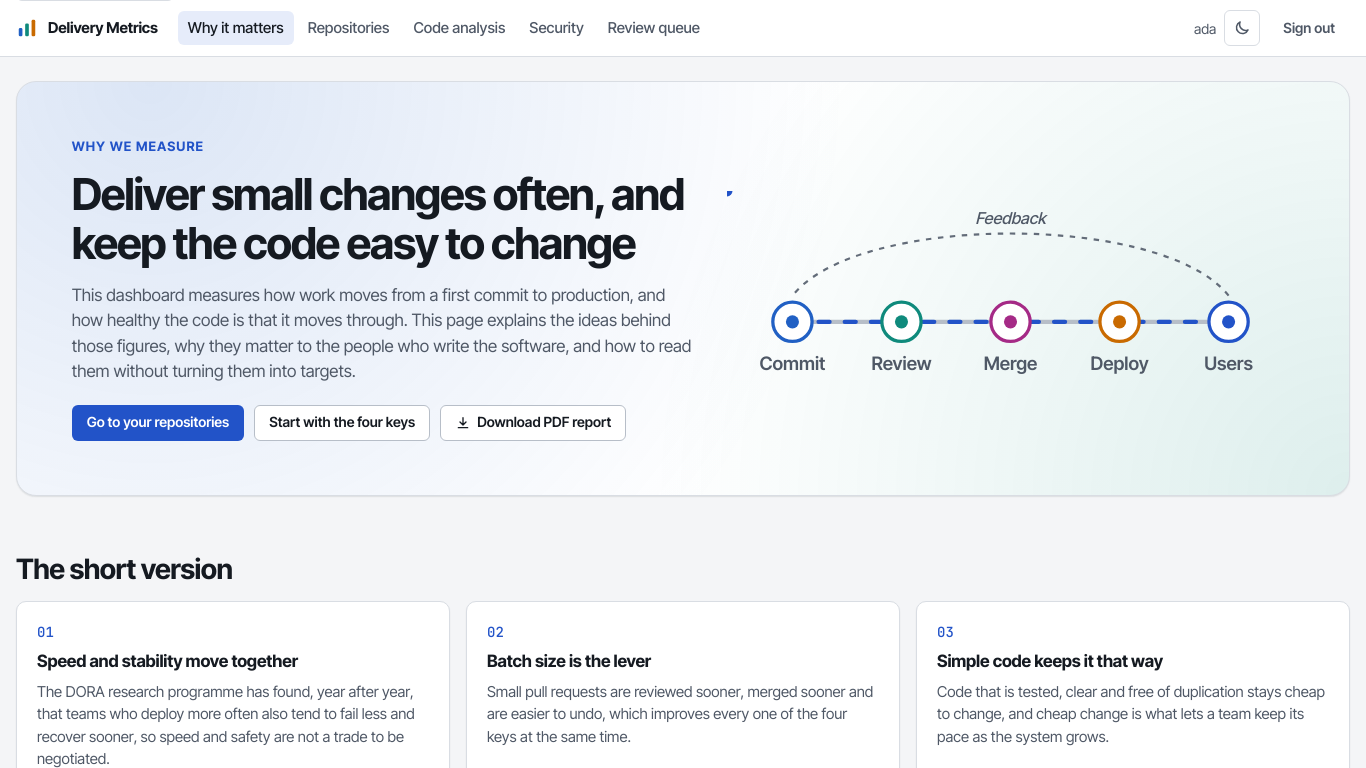
Test case: App sign-in gate › Security pages › follows the tab from the nav to the list
The width and height of the screenshot is (1366, 768).
Click the link "Security". click: coordinates (557, 27)
box: [529, 18, 584, 37]
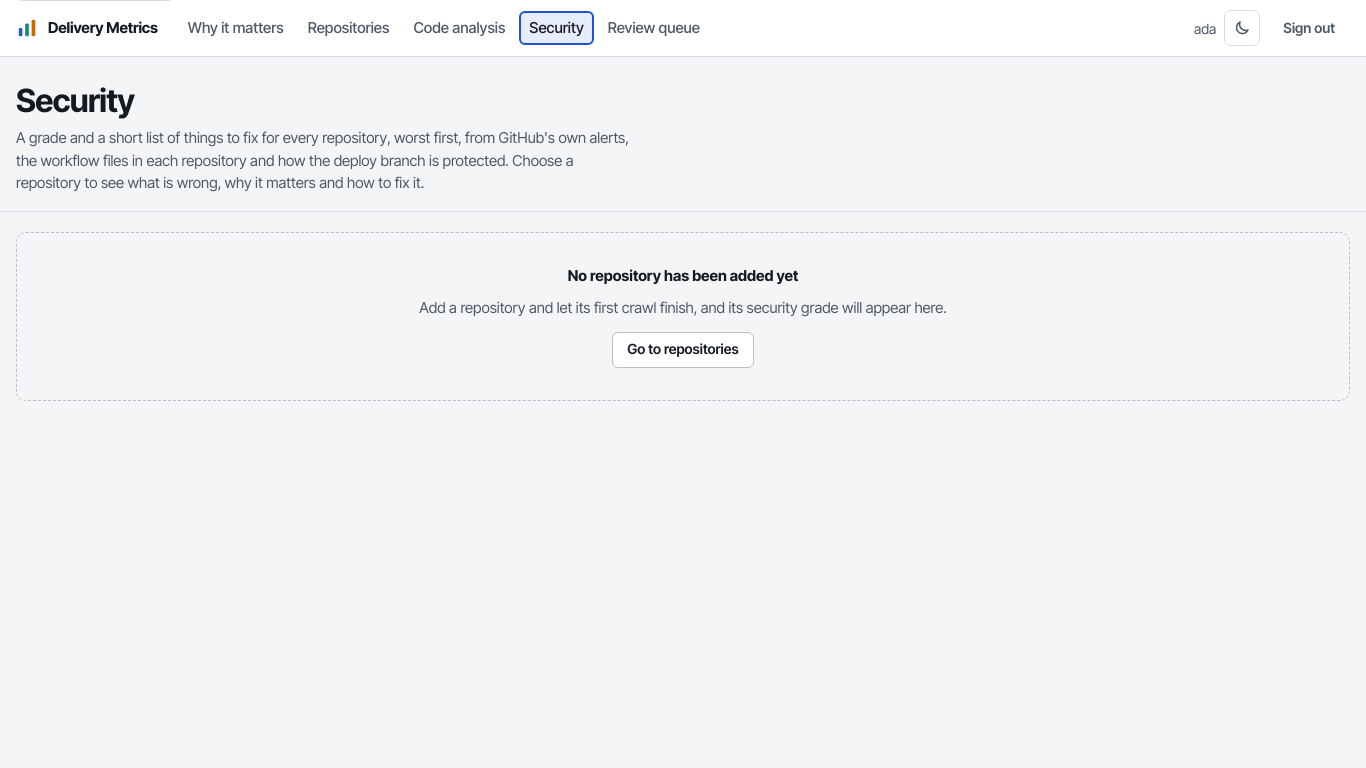
Expected: the heading "Security" is shown, [16, 81, 134, 120]
